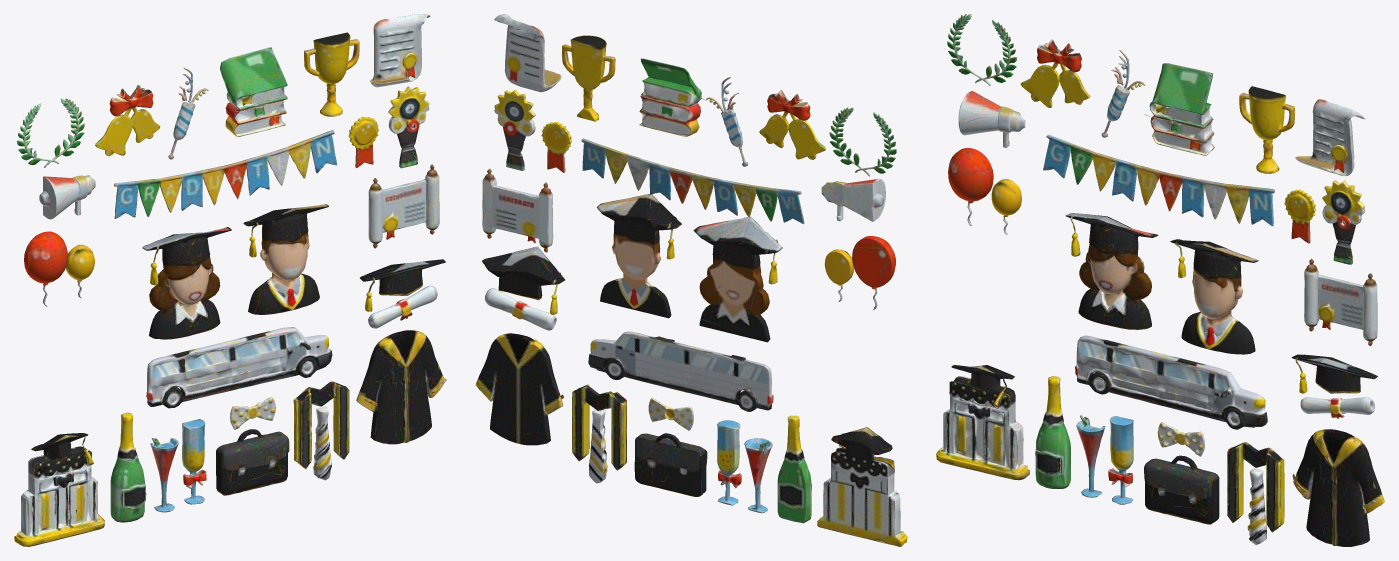
The picture shows the model from 3 angles, left to right: view 1: azimuth 30°, elevation 25°; view 2: azimuth 150°, elevation 25°; view 3: azimuth 330°, elevation 25°; orthographic projection. The views are drawn at different scales.
Visible parts, largest first — view 1: Mesh 11, Mesh 32, Mesh 1, Mesh 10, Mesh 9, Mesh 20, Mesh 8, Mesh 17, Mesh 21, Mesh 16, Mesh 30, Mesh 28 (+11 smaller); view 2: Mesh 11, Mesh 10, Mesh 1, Mesh 32, Mesh 20, Mesh 9, Mesh 8, Mesh 21, Mesh 16, Mesh 17, Mesh 30, Mesh 28 (+11 smaller); view 3: Mesh 11, Mesh 1, Mesh 32, Mesh 10, Mesh 9, Mesh 20, Mesh 8, Mesh 17, Mesh 21, Mesh 16, Mesh 30, Mesh 28 (+11 smaller).
Part boxes in pixels (x1=…): Mesh 11: x1=146, y1=327, x2=332, y2=408; Mesh 32: x1=356, y1=330, x2=446, y2=444; Mesh 1: x1=14, y1=433, x2=104, y2=546; Mesh 10: x1=142, y1=227, x2=231, y2=339; Mesh 9: x1=114, y1=130, x2=336, y2=218; Mesh 20: x1=243, y1=204, x2=328, y2=314; Mesh 8: x1=110, y1=412, x2=206, y2=522; Mesh 17: x1=220, y1=47, x2=287, y2=136; Mesh 21: x1=293, y1=381, x2=349, y2=480; Mesh 16: x1=216, y1=429, x2=289, y2=495; Mesh 30: x1=368, y1=164, x2=439, y2=248; Mesh 28: x1=370, y1=14, x2=430, y2=87; Mesh 11: x1=588, y1=331, x2=773, y2=411; Mesh 10: x1=693, y1=216, x2=782, y2=342; Mesh 1: x1=817, y1=427, x2=907, y2=546; Mesh 32: x1=475, y1=333, x2=564, y2=445; Mesh 20: x1=597, y1=194, x2=681, y2=318; Mesh 9: x1=581, y1=138, x2=804, y2=224; Mesh 8: x1=717, y1=415, x2=811, y2=523; Mesh 21: x1=572, y1=384, x2=626, y2=483; Mesh 16: x1=634, y1=433, x2=707, y2=496; Mesh 17: x1=639, y1=58, x2=706, y2=136; Mesh 30: x1=482, y1=168, x2=553, y2=252; Mesh 28: x1=494, y1=14, x2=561, y2=92; Mesh 11: x1=1075, y1=335, x2=1267, y2=429; Mesh 1: x1=936, y1=365, x2=1029, y2=480; Mesh 32: x1=1292, y1=429, x2=1384, y2=546; Mesh 10: x1=1066, y1=213, x2=1158, y2=329; Mesh 9: x1=1043, y1=134, x2=1274, y2=226; Mesh 20: x1=1170, y1=239, x2=1258, y2=354; Mesh 8: x1=1035, y1=375, x2=1133, y2=504; Mesh 17: x1=1144, y1=63, x2=1214, y2=155; Mesh 21: x1=1227, y1=442, x2=1284, y2=544; Mesh 16: x1=1144, y1=455, x2=1219, y2=524; Mesh 30: x1=1304, y1=258, x2=1377, y2=345; Mesh 28: x1=1295, y1=99, x2=1365, y2=176.
Bounding box in the file's own units: 1.9 × 1.88 × 0.1671.
Materials: 23 (23 with a texture image).
